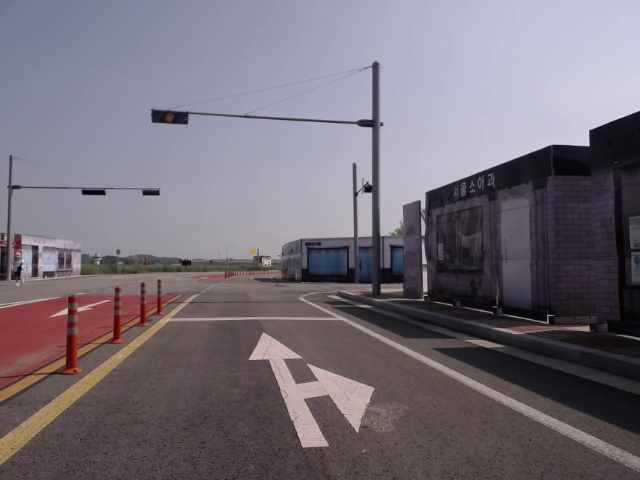orange_3: (151, 109, 190, 125)
